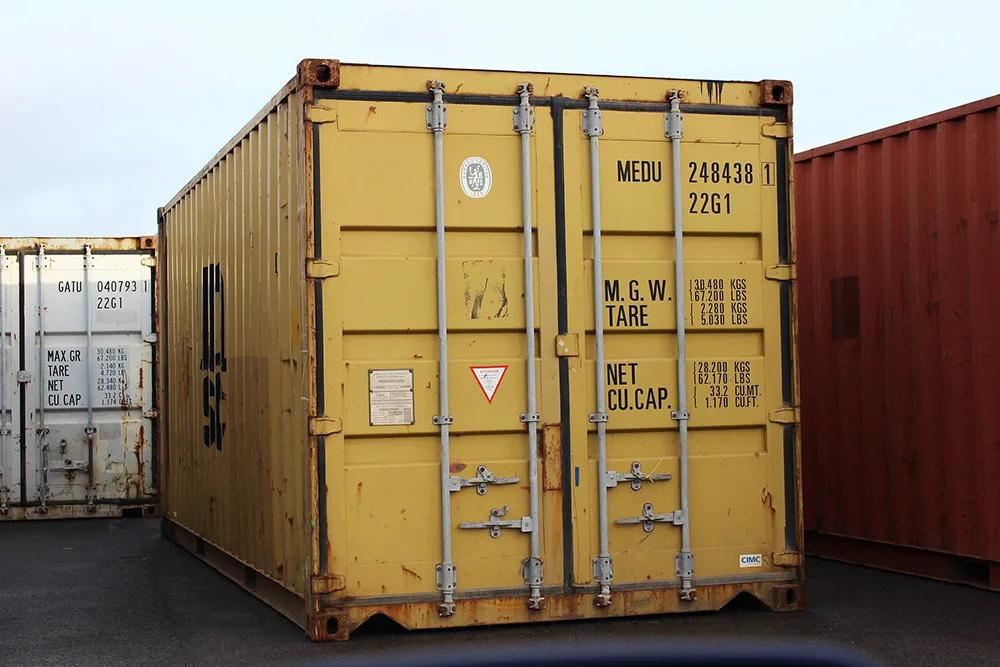ContainerNum: (614, 157, 777, 216)
